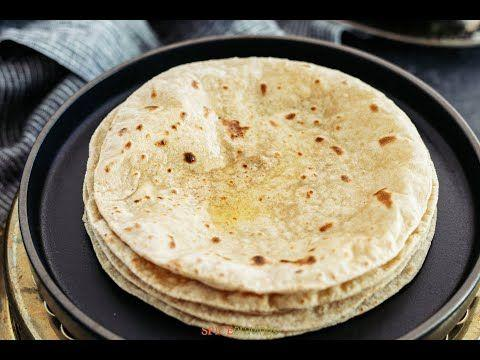roti phulka: (83, 54, 439, 321)
